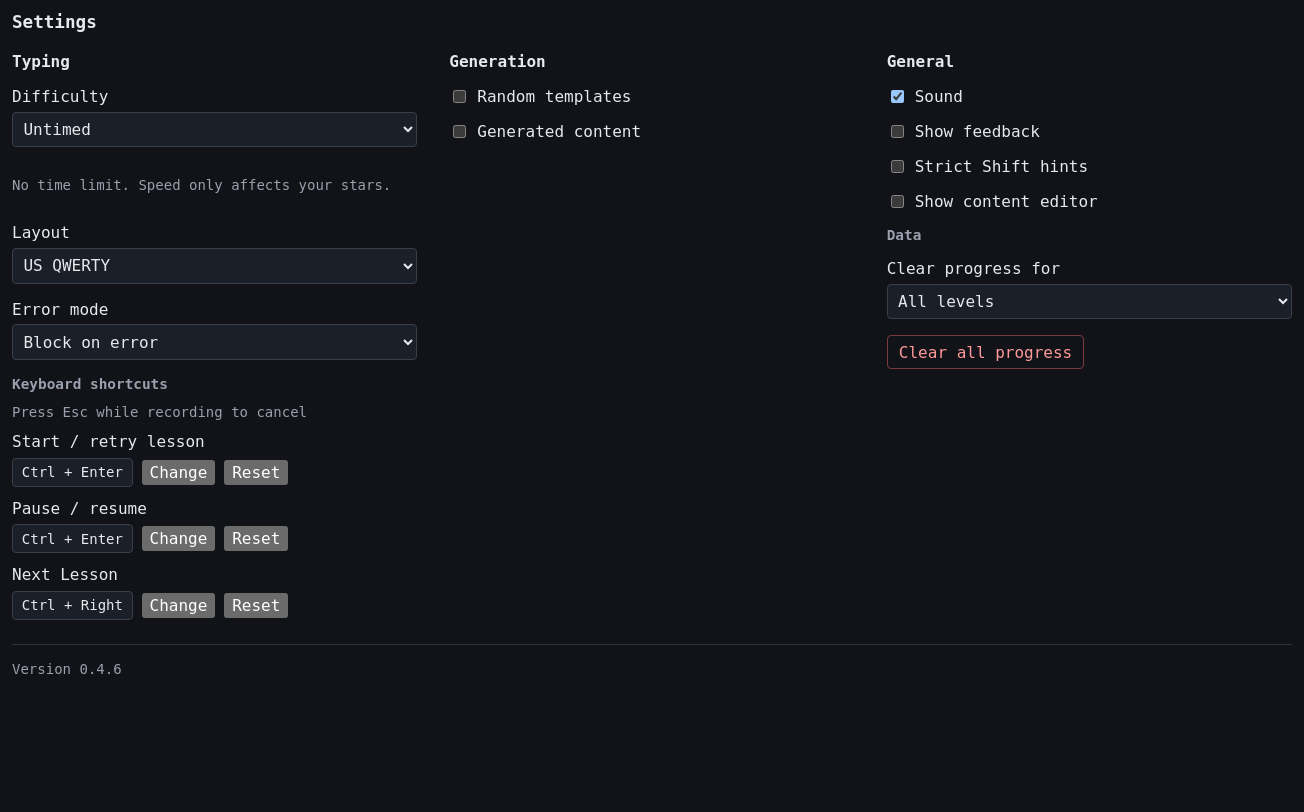
Test: SettingsPanel shortcuts › rejects a combination without modifiers
The image size is (1304, 812).
Click the button "Change" below "Start / retry lesson". click: (178, 472)
box: [142, 460, 215, 485]
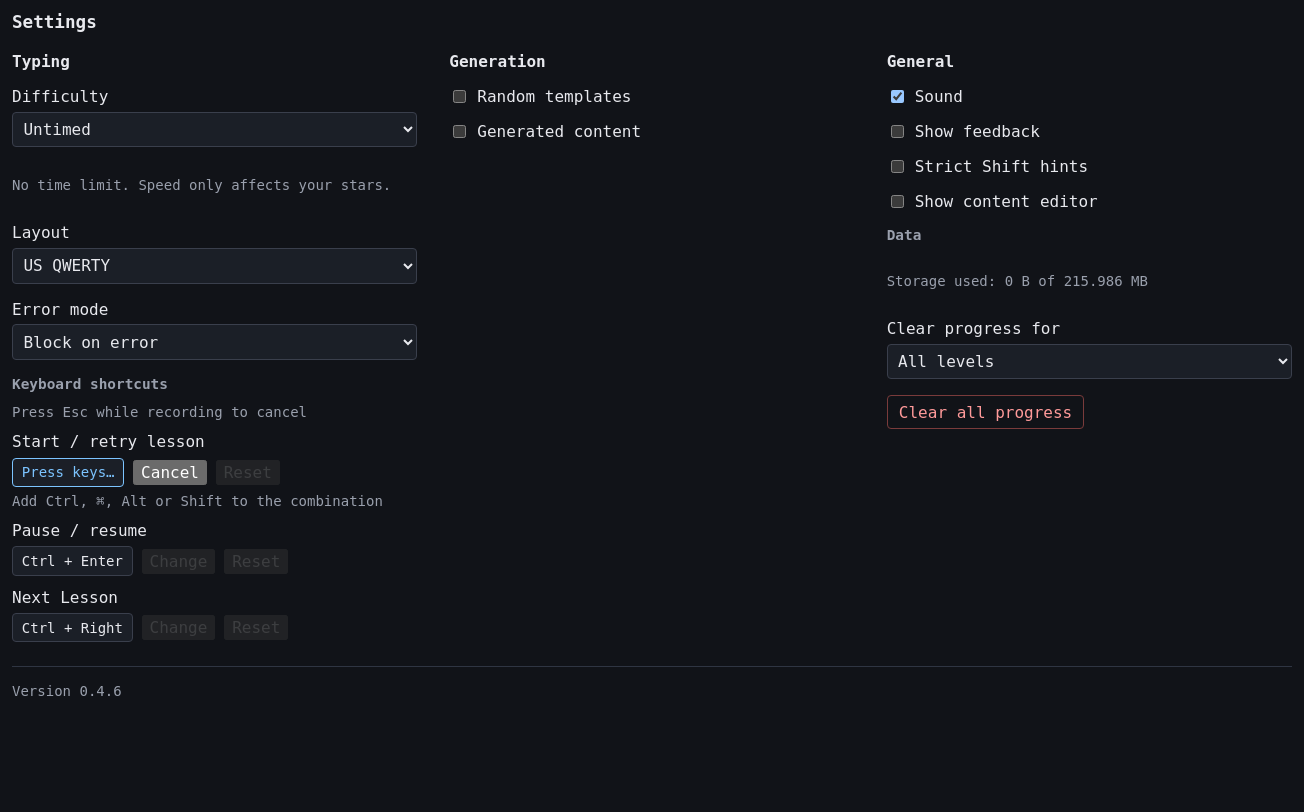
Expected: the message "Add Ctrl, ⌘, Alt or Shift to the combination" is shown, [12, 493, 417, 509]
